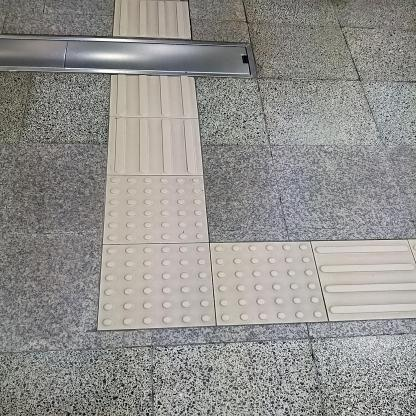podotacti: (89, 0, 221, 337), (81, 236, 416, 339)
